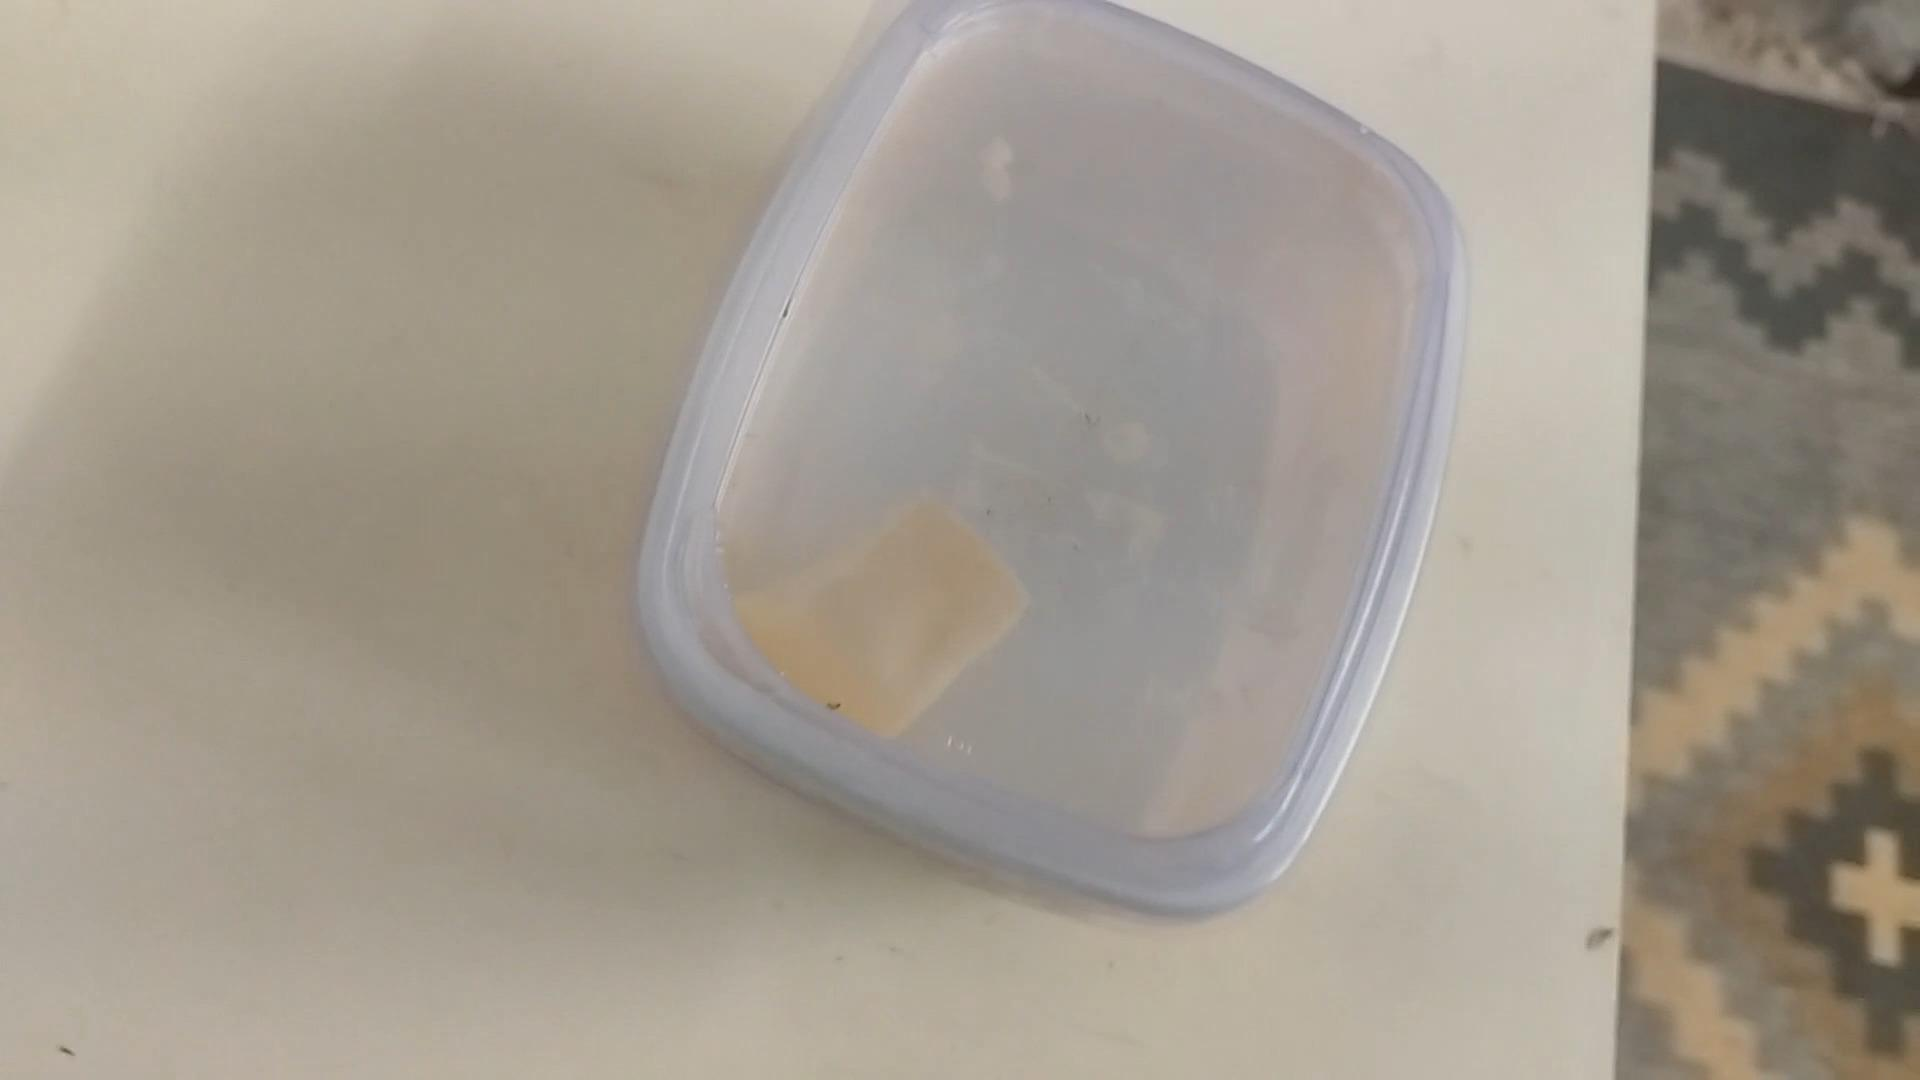butter: (633, 13, 1460, 922)
